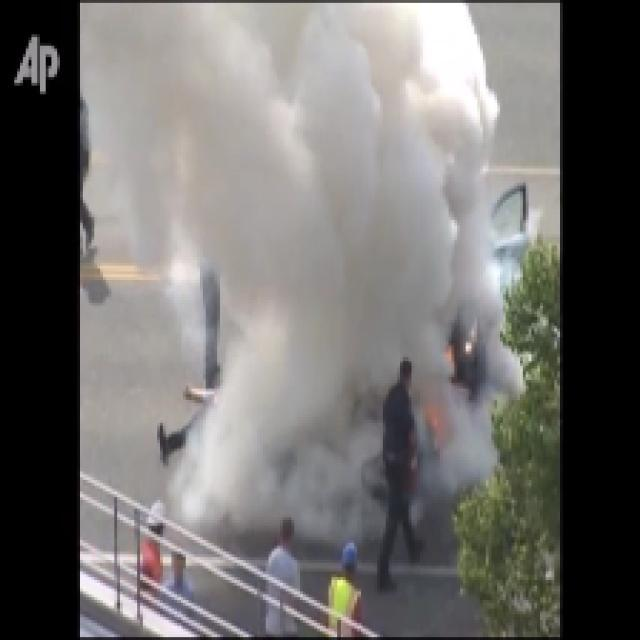Smoke: (227, 135, 476, 398), (129, 11, 465, 126)
